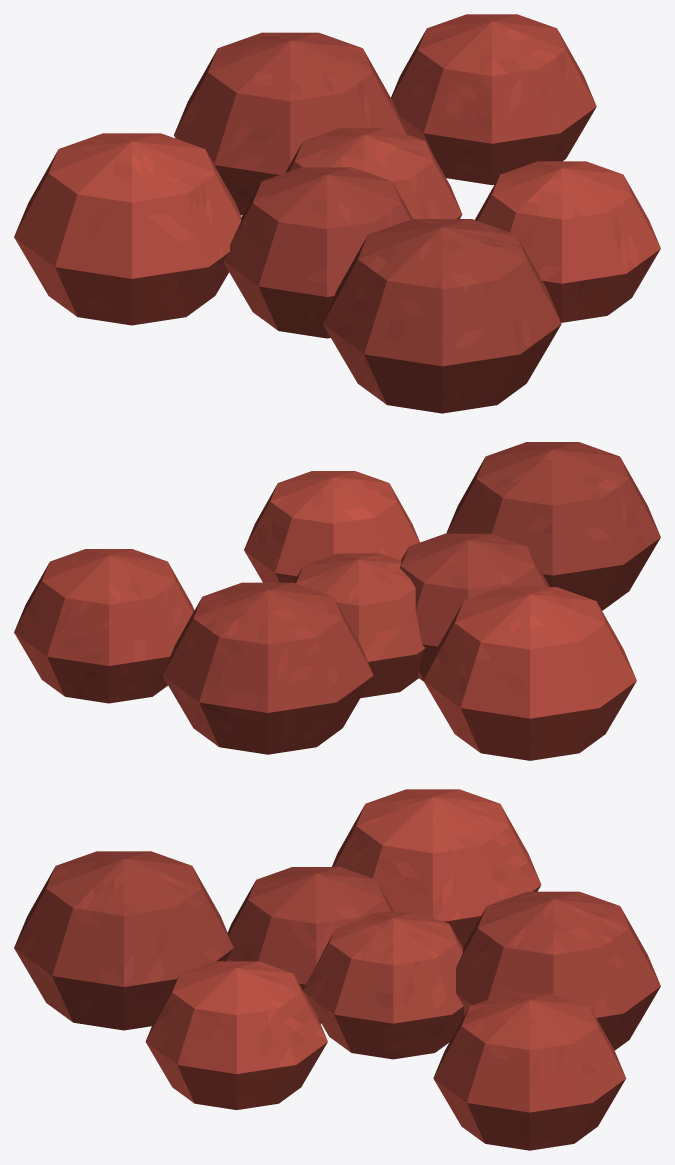
File: spicebush_berries.glb
3 views of the same model, one above another, from view 1: azimuth 30°, elevation 25°; view 2: azimuth 150°, elevation 25°; view 3: azimuth 270°, elevation 25° (orthographic). The views are drawn at different scales.
Parts seen in each view (by area): view 1: block_individual berry (×7); view 2: block_individual berry (×7); view 3: block_individual berry (×7).
Boxes of the visible parts, x1,y1,x2,y2 form: block_individual berry (×7): (14, 14, 660, 413); block_individual berry (×7): (14, 442, 660, 760); block_individual berry (×7): (14, 789, 660, 1150).
Size of the model in its own units: 0.0322 by 0.00898 by 0.0325.
Materials: 1 (1 with a texture image).
